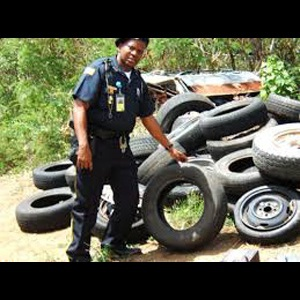tire: (142, 161, 228, 252), (215, 148, 300, 206), (233, 185, 300, 247), (155, 94, 220, 153), (16, 186, 82, 234), (252, 121, 300, 179), (200, 97, 267, 138), (34, 160, 93, 189)
